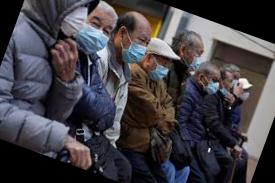mask_weared_incorrect: (221, 77, 236, 98)
with_mask: (82, 12, 116, 52), (125, 29, 153, 65), (188, 43, 208, 73), (152, 56, 174, 81), (205, 71, 224, 95), (240, 87, 253, 103)
